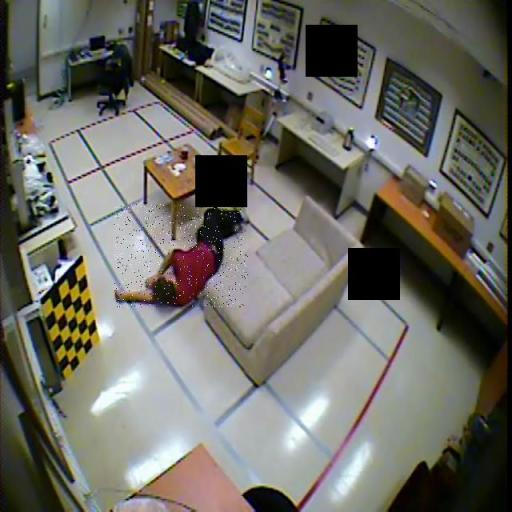Fall: (114, 204, 248, 307)
